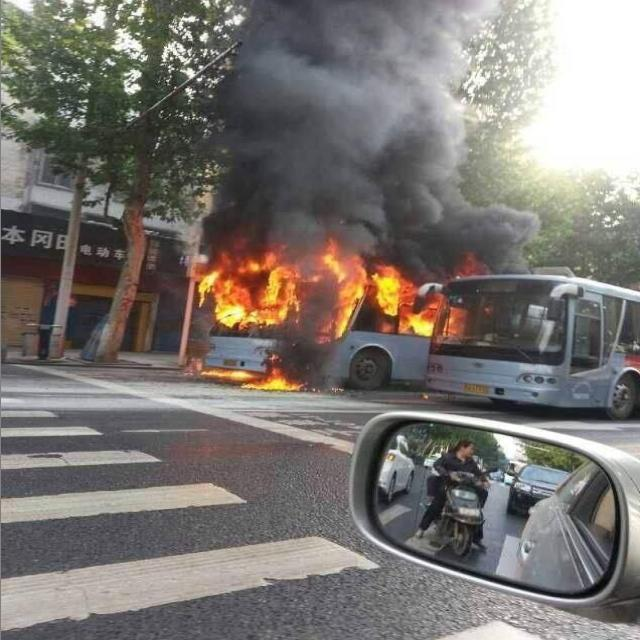Fire: (197, 242, 442, 340), (206, 363, 303, 392)
Smoke: (208, 0, 540, 241)
